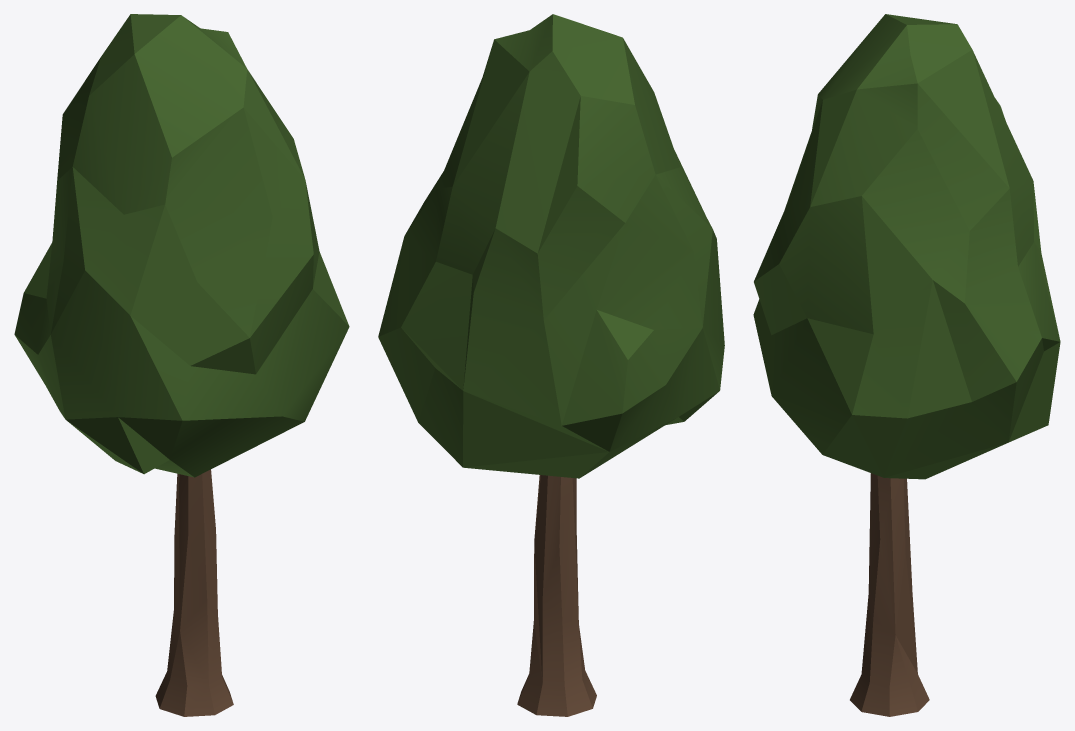
Rendered from BroadleafF.fbx.
3 views of the same model, side by side, from view 1: azimuth 30°, elevation 25°; view 2: azimuth 150°, elevation 25°; view 3: azimuth 270°, elevation 25° (orthographic). The views are drawn at different scales.
Visible parts, largest first — view 1: BroadleafF; view 2: BroadleafF; view 3: BroadleafF.
Part boxes in pixels (x1,y1,x2,y2): BroadleafF: [14, 14, 349, 716]; BroadleafF: [378, 14, 724, 716]; BroadleafF: [753, 14, 1060, 716].
Bounding box in the file's own units: 346 × 803 × 332.
